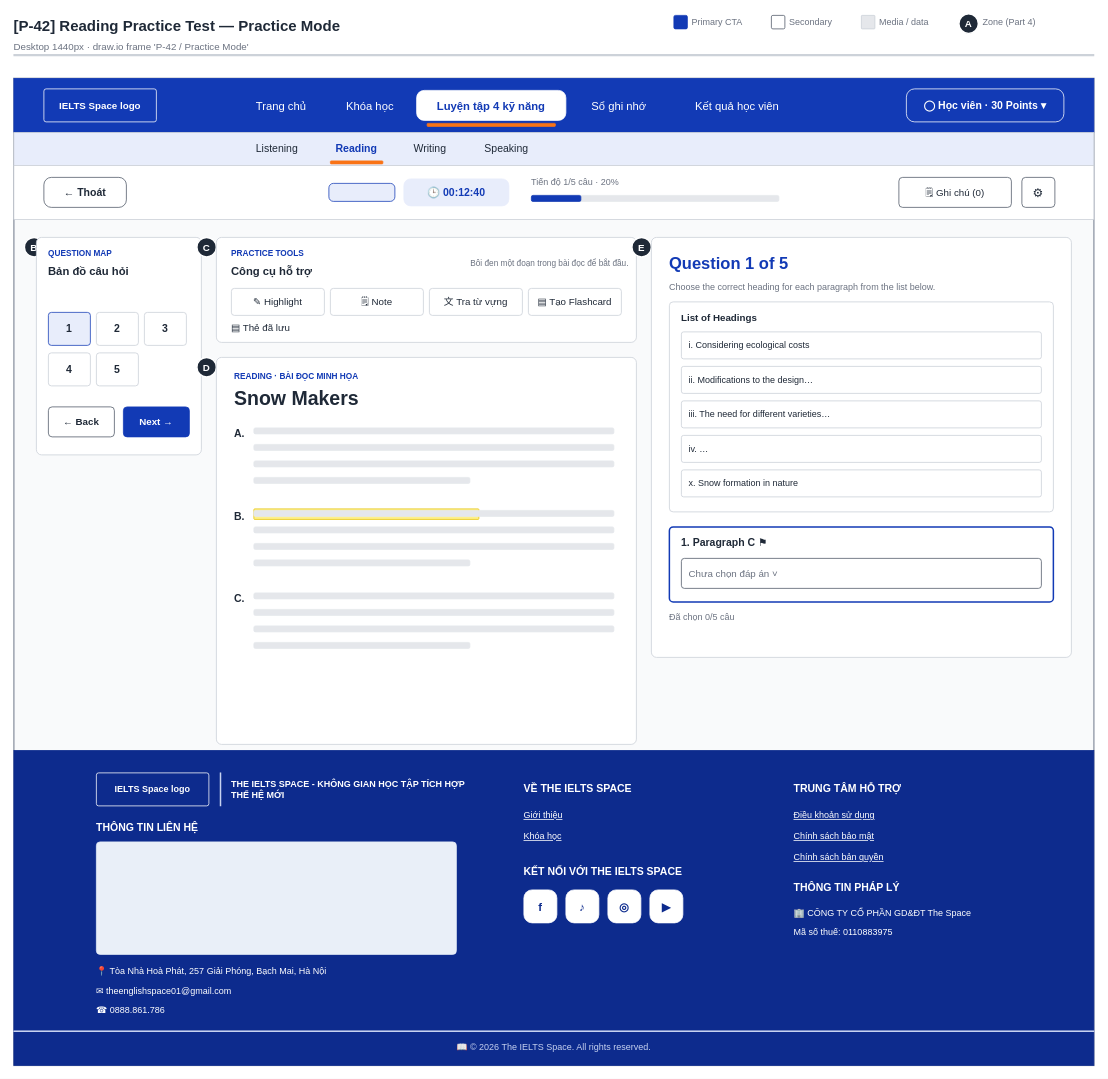
Image size: 1108x1079. Some labels were removed from this diagram. The box of each missing label's shape, as (x1, y1, x2, y2) in pixels:
Luyện tập: (328, 183, 395, 201)
📍 The IELTS Space Mở trong Maps ↗: (96, 841, 456, 954)
